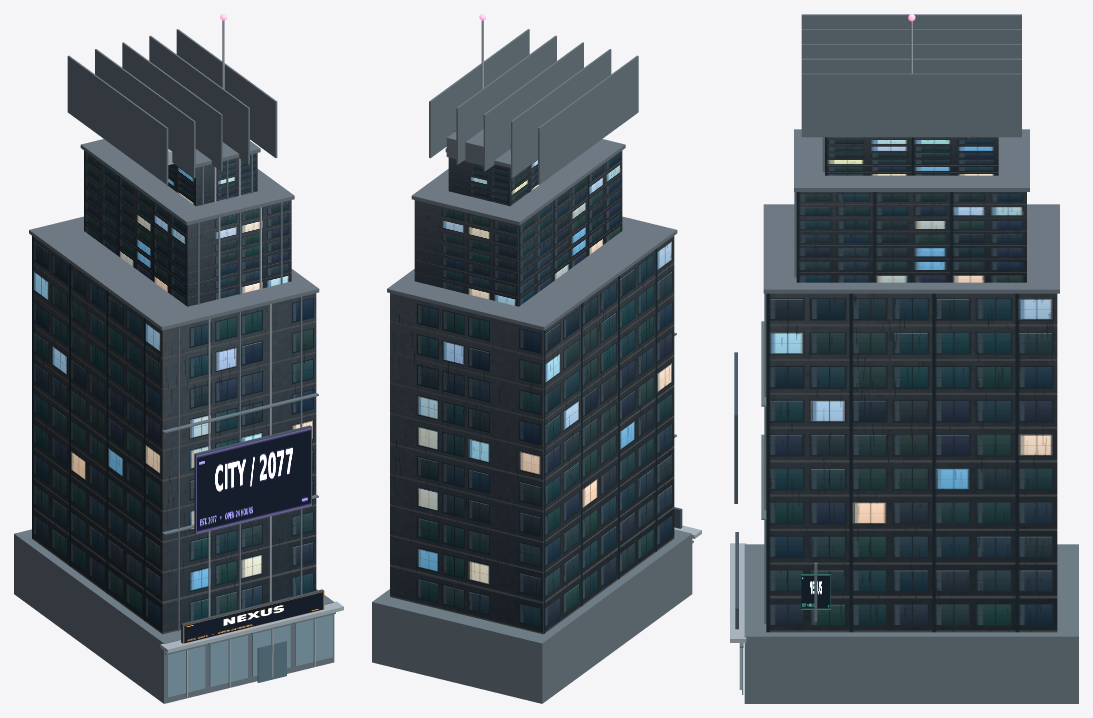
File: building_12.glb
3 renders of one model, left to right at view 1: azimuth 30°, elevation 25°; view 2: azimuth 150°, elevation 25°; view 3: azimuth 270°, elevation 25°, orthographic. The views are drawn at different scales.
Parts seen in each view (by area): view 1: facade_sideb_3, frame, facade_0, roof, ad_14, facade_sideb_7, facade_4, glass, alum, sign_12, facade_8, dark (+2 smaller); view 2: facade_back_1, frame, facade_sideb_3, roof, facade_back_5, facade_sideb_7, facade_back_9, facade_sideb_11; view 3: facade_side_2, frame, facade_side_6, roof, facade_side_10, alum, side_sign_13, dark.
Boxes of the visible parts, x1,y1,x2,y2 form: facade_sideb_3: [32, 236, 162, 633]; frame: [14, 29, 335, 703]; facade_0: [163, 293, 316, 634]; roof: [29, 139, 319, 330]; ad_14: [196, 427, 311, 533]; facade_sideb_7: [84, 150, 187, 306]; facade_4: [187, 200, 291, 306]; glass: [167, 614, 332, 697]; alum: [160, 20, 343, 697]; sign_12: [183, 591, 324, 643]; facade_8: [196, 153, 257, 205]; dark: [181, 225, 323, 643]; facade_back_1: [390, 293, 543, 634]; frame: [372, 29, 693, 703]; facade_sideb_3: [543, 236, 674, 633]; roof: [387, 129, 677, 330]; facade_back_5: [414, 200, 518, 306]; facade_sideb_7: [519, 151, 622, 306]; facade_back_9: [448, 157, 509, 205]; facade_sideb_11: [510, 160, 538, 205]; facade_side_2: [766, 293, 1057, 632]; frame: [740, 14, 1078, 703]; facade_side_6: [796, 192, 1026, 282]; roof: [763, 129, 1059, 293]; facade_side_10: [825, 137, 998, 175]; alum: [730, 21, 912, 689]; side_sign_13: [801, 574, 830, 609]; dark: [734, 352, 738, 629].
Bounding box in the file's own units: 23.75 × 75.68 × 35.7.
Materials: 25 (15 with a texture image).
